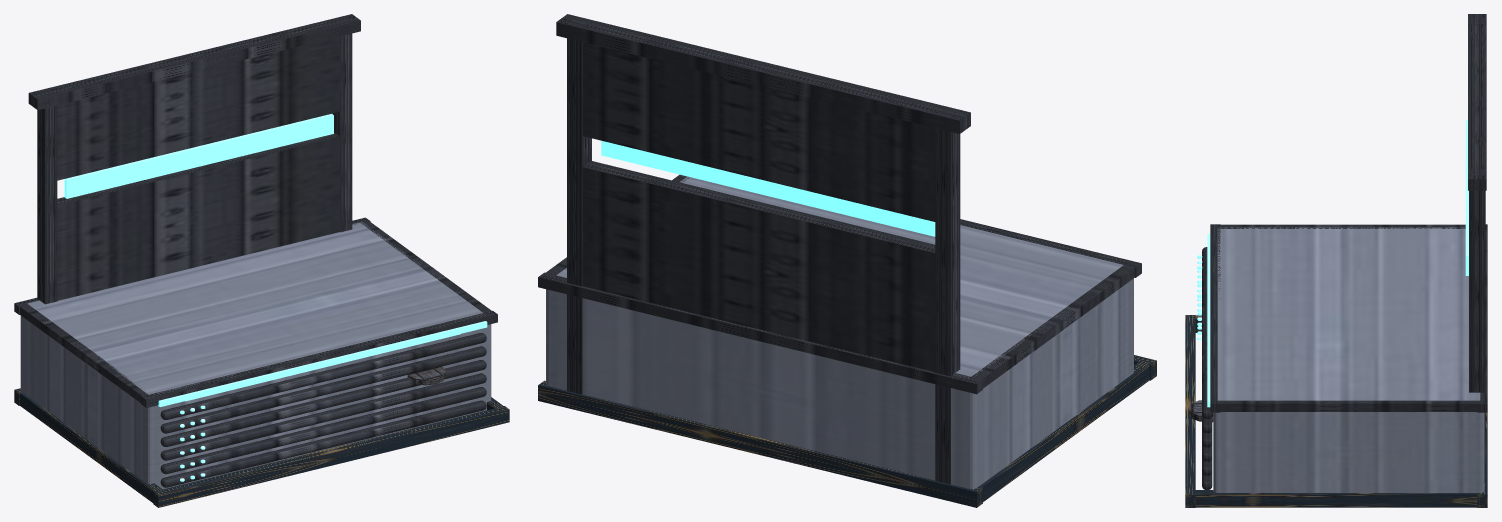
The model's file is cam_codecrack.glb.
3 renders of one model, left to right at view 1: azimuth 30°, elevation 25°; view 2: azimuth 150°, elevation 25°; view 3: azimuth 270°, elevation 25°, orthographic. The views are drawn at different scales.
Visible parts, largest first — view 1: sight_shell, frame, shelltoe0, sightglow, unit0, unit2, unit4, unit5, unit1, shellrim0, unit3, strip (+3 smaller); view 2: sight_shell, frame, shelltoe2, shellrim2, sightglow, shelltoes0, shellrims0, shellrim0; view 3: frame, sight_shell, shelltoes2, shellrims2, shelltoe0, shellrim0, shellrims0, unit5, shellrim2, strip, sightglow, shelltoe2.
Part boxes in pixels (x1=…): sight_shell: x1=28, y1=14, x2=360, y2=304; frame: x1=20, y1=222, x2=491, y2=489; shelltoe0: x1=153, y1=406, x2=509, y2=507; sightglow: x1=64, y1=114, x2=333, y2=198; unit0: x1=160, y1=400, x2=486, y2=487; unit2: x1=160, y1=373, x2=486, y2=460; unit4: x1=160, y1=346, x2=486, y2=433; unit5: x1=160, y1=333, x2=486, y2=419; unit1: x1=160, y1=387, x2=486, y2=474; shellrim0: x1=141, y1=310, x2=497, y2=407; unit3: x1=160, y1=360, x2=486, y2=446; strip: x1=158, y1=321, x2=487, y2=406; sight_shell: x1=556, y1=14, x2=970, y2=484; frame: x1=546, y1=176, x2=1133, y2=488; shelltoe2: x1=538, y1=380, x2=982, y2=507; shellrim2: x1=538, y1=272, x2=982, y2=394; sightglow: x1=601, y1=140, x2=935, y2=236; shelltoes0: x1=977, y1=361, x2=1150, y2=501; shellrims0: x1=970, y1=265, x2=1134, y2=388; shellrim0: x1=960, y1=219, x2=1141, y2=277; frame: x1=1213, y1=227, x2=1484, y2=492; sight_shell: x1=1468, y1=14, x2=1486, y2=483; shelltoes2: x1=1192, y1=490, x2=1480, y2=507; shellrims2: x1=1217, y1=400, x2=1480, y2=411; shelltoe0: x1=1185, y1=315, x2=1195, y2=507; shellrim0: x1=1210, y1=224, x2=1220, y2=412; shellrims0: x1=1217, y1=224, x2=1465, y2=228; unit5: x1=1202, y1=247, x2=1212, y2=419; shellrim2: x1=1477, y1=224, x2=1487, y2=412; strip: x1=1207, y1=234, x2=1210, y2=407; sightglow: x1=1465, y1=119, x2=1468, y2=275; shelltoe2: x1=1477, y1=412, x2=1487, y2=507.
Size of the model in its own units: 2.04 by 1.7 by 1.45.
7 materials, 5 textured.
